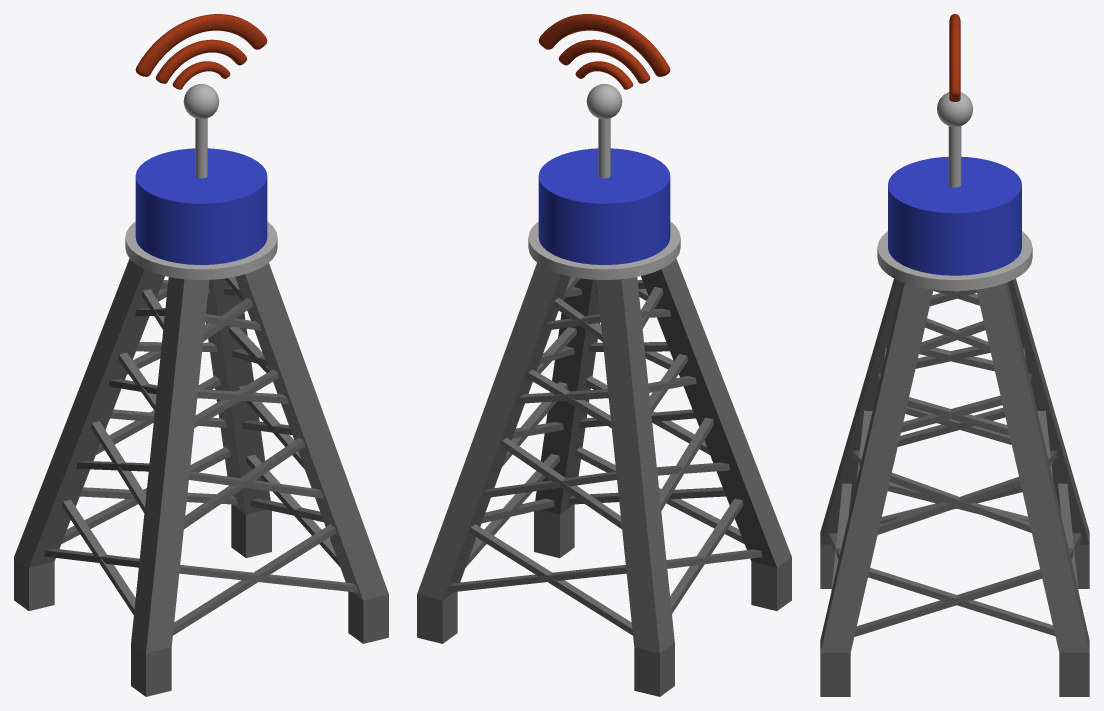
The model's file is Wifi.glb.
The picture shows the model from 3 angles, left to right: view 1: azimuth 30°, elevation 25°; view 2: azimuth 150°, elevation 25°; view 3: azimuth 270°, elevation 25°; orthographic projection.
Parts seen in each view (by area): view 1: Wifi; view 2: Wifi; view 3: Wifi.
Boxes of the visible parts, box(x1,y1,x2,y2) form: Wifi: box(14, 14, 388, 696); Wifi: box(417, 14, 791, 696); Wifi: box(820, 14, 1089, 696).
Bounding box in the file's own units: 1.6 × 3.79 × 1.51.
